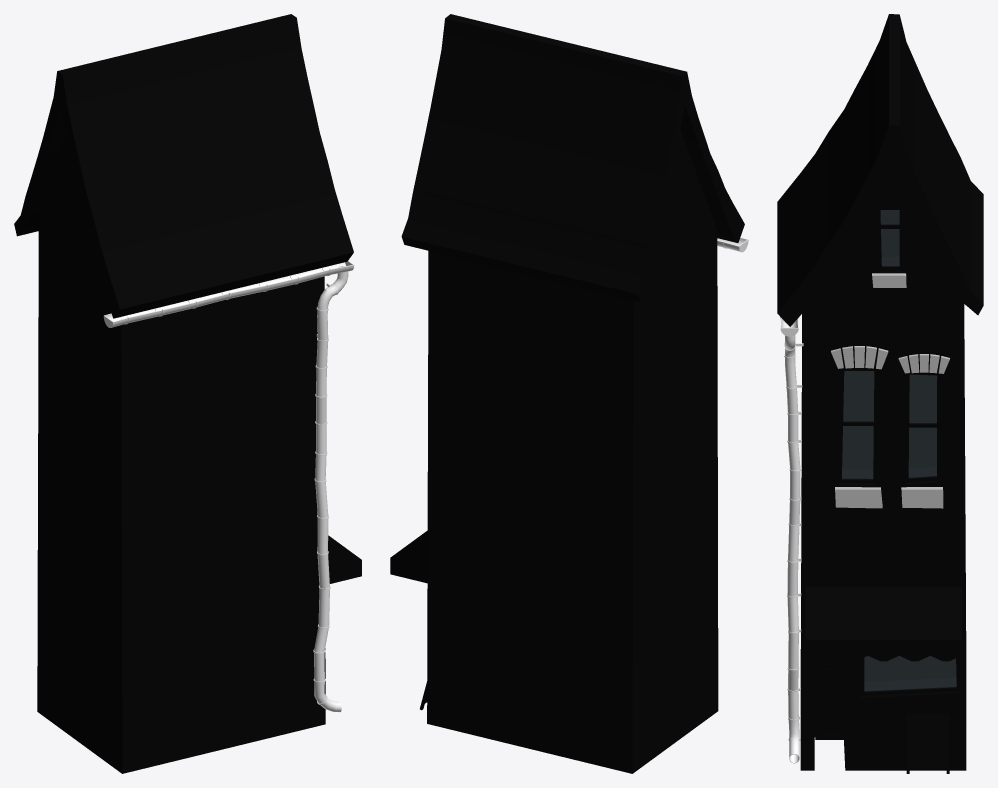
The model's file is bina2.fbx.
3 views of the same model, side by side, from view 1: azimuth 30°, elevation 25°; view 2: azimuth 150°, elevation 25°; view 3: azimuth 270°, elevation 25° (orthographic). The views are drawn at different scales.
Visible parts, largest first — view 1: Cube.002; view 2: Cube.002; view 3: Cube.002.
Part boxes in pixels (box(x1,y1,x2,y2)): Cube.002: box(14, 14, 361, 773); Cube.002: box(390, 14, 748, 773); Cube.002: box(777, 14, 983, 773).
Size of the model in its own units: 1075 by 2628 by 753.
Materials: 9 (7 with a texture image).
